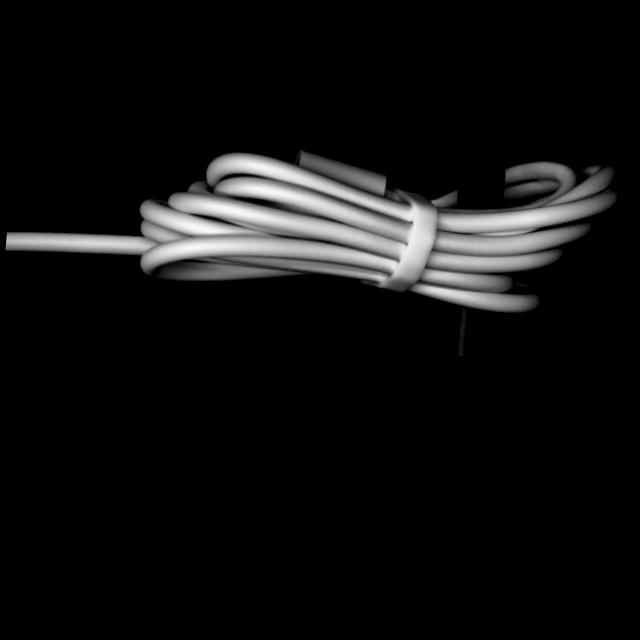Cable: (3, 102, 632, 326)
